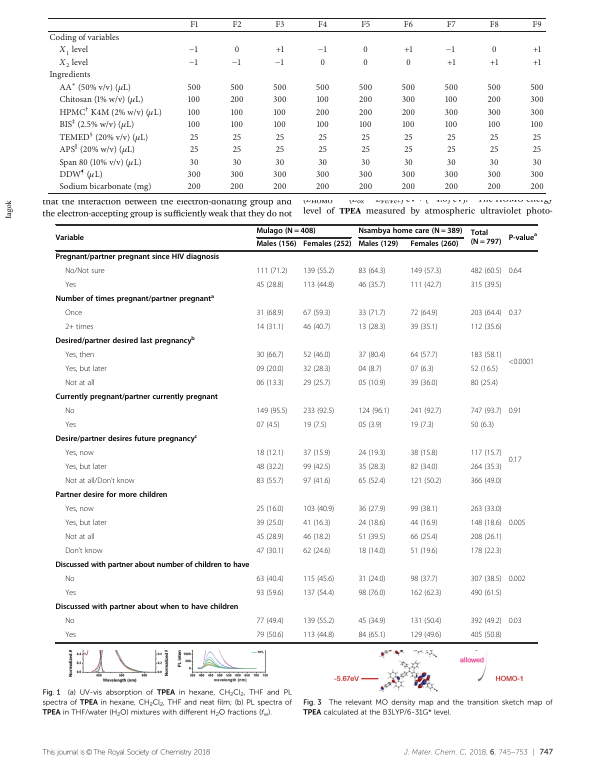borderless: (54, 223, 537, 642), (46, 16, 546, 193)
cell: (55, 561, 250, 571), (55, 603, 239, 613), (58, 103, 163, 120), (55, 294, 215, 305), (55, 253, 220, 263), (55, 393, 219, 403), (55, 434, 198, 445), (55, 336, 196, 347), (58, 129, 149, 145), (58, 92, 144, 107), (58, 154, 143, 169), (58, 141, 136, 157), (58, 116, 135, 132), (58, 79, 132, 95), (55, 491, 168, 501), (58, 182, 152, 193), (357, 227, 463, 236), (58, 166, 104, 182), (48, 33, 120, 43), (64, 477, 136, 486), (470, 229, 502, 247), (255, 227, 316, 236), (58, 54, 89, 71), (302, 240, 352, 250), (409, 240, 459, 250), (58, 42, 89, 58), (48, 70, 91, 81), (255, 240, 297, 250), (357, 240, 399, 250), (64, 365, 108, 374), (64, 463, 108, 472), (64, 519, 108, 528), (64, 267, 105, 276), (64, 547, 103, 556), (508, 232, 538, 243), (55, 233, 85, 243), (255, 267, 288, 276), (302, 267, 335, 276), (409, 267, 442, 276), (302, 281, 335, 290), (409, 281, 442, 290), (255, 407, 288, 416), (302, 407, 335, 416), (357, 407, 390, 416), (409, 407, 442, 416), (409, 477, 442, 486), (302, 505, 335, 514), (302, 575, 335, 584), (302, 589, 335, 598), (409, 589, 442, 598), (302, 617, 335, 626), (409, 617, 442, 626), (302, 631, 335, 640), (409, 631, 442, 640), (470, 267, 502, 276), (470, 281, 502, 290), (470, 309, 502, 318), (470, 323, 502, 332), (470, 351, 502, 360), (470, 407, 502, 416), (470, 449, 502, 458), (470, 463, 502, 472), (470, 477, 502, 486), (470, 505, 502, 514), (470, 519, 502, 528), (470, 533, 502, 542), (470, 547, 502, 556), (470, 575, 502, 584), (470, 589, 502, 598), (470, 617, 502, 626), (470, 631, 502, 640), (64, 351, 95, 360), (64, 379, 95, 388), (64, 449, 95, 458), (64, 505, 95, 514), (64, 533, 95, 542), (64, 323, 94, 332), (357, 267, 386, 276), (255, 281, 284, 290), (357, 281, 386, 290), (255, 309, 284, 318), (302, 309, 331, 318), (357, 309, 386, 318), (409, 309, 438, 318), (255, 323, 284, 332), (302, 323, 331, 332), (357, 323, 386, 332), (409, 323, 438, 332), (255, 351, 284, 360), (302, 351, 331, 360), (357, 351, 386, 360), (409, 351, 438, 360), (255, 365, 284, 374), (302, 365, 331, 374), (470, 365, 499, 374), (255, 379, 284, 388), (302, 379, 331, 388), (357, 379, 386, 388), (409, 379, 438, 388), (470, 379, 499, 388), (255, 449, 284, 458), (302, 449, 331, 458), (357, 449, 386, 458), (409, 449, 438, 458), (255, 463, 284, 472), (302, 463, 331, 472), (357, 463, 386, 472), (409, 463, 438, 472), (255, 477, 284, 486), (302, 477, 331, 486), (357, 477, 386, 486), (255, 505, 284, 514), (357, 505, 386, 514), (409, 505, 438, 514), (255, 519, 284, 528), (302, 519, 331, 528), (357, 519, 386, 528), (409, 519, 438, 528), (255, 533, 284, 542), (302, 533, 331, 542), (357, 533, 386, 542), (409, 533, 438, 542), (255, 547, 284, 556), (302, 547, 331, 556), (357, 547, 386, 556), (409, 547, 438, 556), (255, 575, 284, 584), (357, 575, 386, 584), (409, 575, 438, 584), (255, 589, 284, 598), (357, 589, 386, 598), (255, 617, 284, 626), (357, 617, 386, 626), (255, 631, 284, 640), (357, 631, 386, 640), (508, 358, 535, 367), (357, 365, 383, 374), (409, 365, 435, 374), (255, 421, 281, 430), (357, 421, 383, 430), (409, 421, 435, 430), (302, 421, 327, 430), (470, 421, 495, 430), (188, 54, 200, 70), (231, 54, 243, 70), (274, 54, 286, 70), (188, 42, 200, 57), (317, 42, 329, 57), (229, 95, 245, 106), (229, 182, 245, 193), (64, 309, 83, 318), (446, 42, 457, 57), (272, 95, 287, 106), (358, 95, 373, 106), (401, 95, 416, 106), (487, 95, 502, 106), (530, 95, 545, 106), (315, 107, 330, 118), (358, 107, 373, 118), (401, 107, 416, 118), (444, 107, 459, 118), (487, 107, 502, 118), (530, 107, 545, 118), (187, 182, 202, 193), (272, 182, 287, 193), (315, 182, 330, 193), (358, 182, 373, 193), (401, 182, 416, 193), (444, 182, 459, 193), (487, 182, 502, 193), (530, 182, 545, 193), (508, 519, 526, 528), (508, 575, 526, 584), (229, 83, 245, 93), (229, 170, 245, 180), (187, 95, 201, 106), (316, 95, 330, 106), (444, 95, 458, 106), (187, 107, 201, 118), (230, 107, 244, 118), (273, 107, 287, 118), (187, 120, 201, 131), (230, 120, 244, 131), (273, 120, 287, 131), (316, 120, 330, 131), (359, 120, 373, 131), (401, 120, 415, 131), (444, 120, 458, 131), (487, 120, 501, 131), (530, 120, 544, 131), (187, 83, 202, 93), (272, 83, 287, 93), (315, 83, 330, 93), (358, 83, 373, 93), (401, 83, 416, 93), (444, 83, 459, 93), (487, 83, 502, 93), (530, 83, 545, 93), (187, 170, 202, 180), (272, 170, 287, 180), (315, 170, 330, 180), (358, 170, 373, 180), (401, 170, 416, 180), (444, 170, 459, 180), (487, 170, 502, 180), (530, 170, 545, 180), (508, 267, 522, 276), (508, 309, 522, 318), (508, 407, 522, 416), (508, 456, 522, 465), (508, 617, 522, 626), (274, 20, 285, 31), (317, 20, 328, 31), (360, 20, 371, 31), (403, 20, 414, 31), (446, 20, 457, 31), (489, 20, 500, 31), (532, 20, 543, 31), (403, 45, 414, 56), (360, 132, 371, 143), (403, 132, 414, 143), (446, 132, 457, 143), (317, 157, 328, 168), (360, 157, 371, 168), (403, 157, 414, 168), (446, 157, 457, 168), (64, 281, 77, 290), (64, 421, 77, 430), (64, 589, 77, 598), (64, 631, 77, 640), (189, 20, 199, 31), (232, 20, 242, 31), (275, 45, 285, 56), (532, 45, 542, 56), (189, 132, 199, 143), (232, 132, 242, 143), (275, 132, 285, 143), (318, 132, 328, 143), (489, 132, 499, 143), (532, 132, 542, 143), (360, 145, 371, 155), (403, 145, 414, 155), (446, 145, 457, 155), (189, 157, 199, 168), (232, 157, 242, 168), (275, 157, 285, 168), (489, 157, 499, 168), (532, 157, 542, 168), (446, 58, 456, 68), (489, 58, 499, 68), (532, 58, 542, 68), (189, 145, 199, 155), (232, 145, 242, 155), (275, 145, 285, 155), (318, 145, 328, 155), (489, 145, 499, 155), (532, 145, 542, 155), (64, 407, 75, 416), (64, 575, 75, 584), (64, 617, 75, 626), (362, 45, 369, 56), (362, 58, 369, 68), (405, 58, 412, 68), (234, 45, 240, 56), (491, 45, 497, 56), (320, 58, 326, 68)
